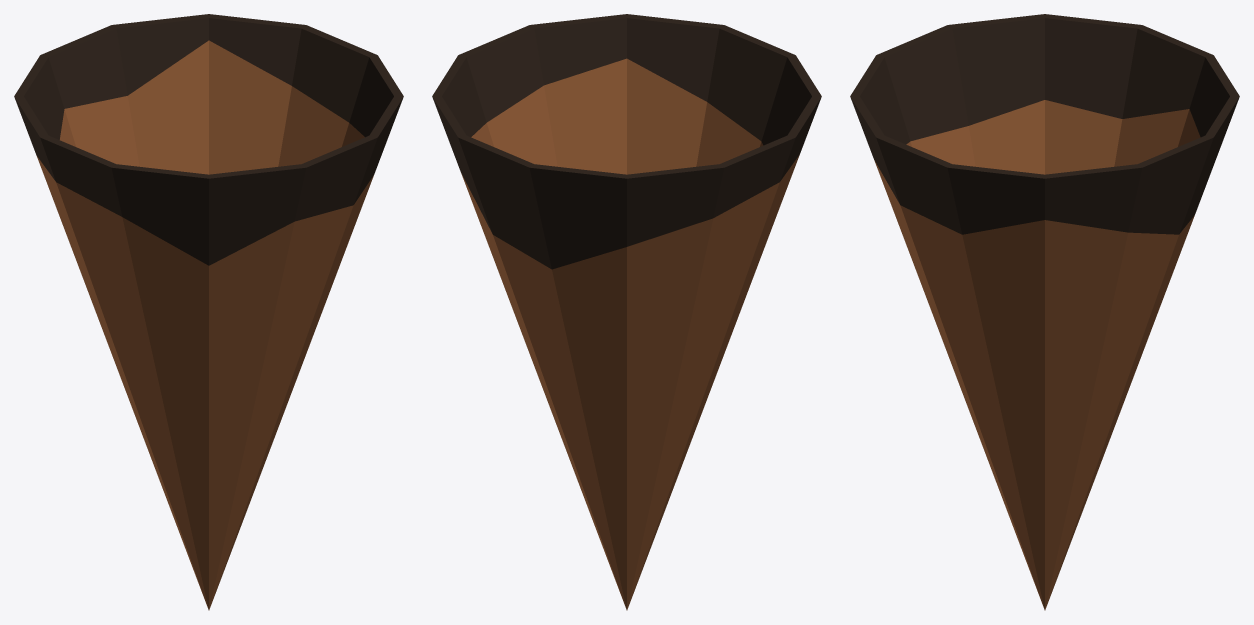
File: IceCreamCone2.fbx
The picture shows the model from 3 angles, left to right: view 1: azimuth 30°, elevation 25°; view 2: azimuth 150°, elevation 25°; view 3: azimuth 270°, elevation 25°; orthographic projection.
Visible parts, largest first — view 1: Ice_Cream_Cone_2; view 2: Ice_Cream_Cone_2; view 3: Ice_Cream_Cone_2.
Boxes of the visible parts, x1=… form: Ice_Cream_Cone_2: x1=14, y1=14, x2=403, y2=610; Ice_Cream_Cone_2: x1=432, y1=14, x2=821, y2=610; Ice_Cream_Cone_2: x1=850, y1=14, x2=1239, y2=610.
Bounding box in the file's own units: 12.53 × 18.25 × 12.53.
